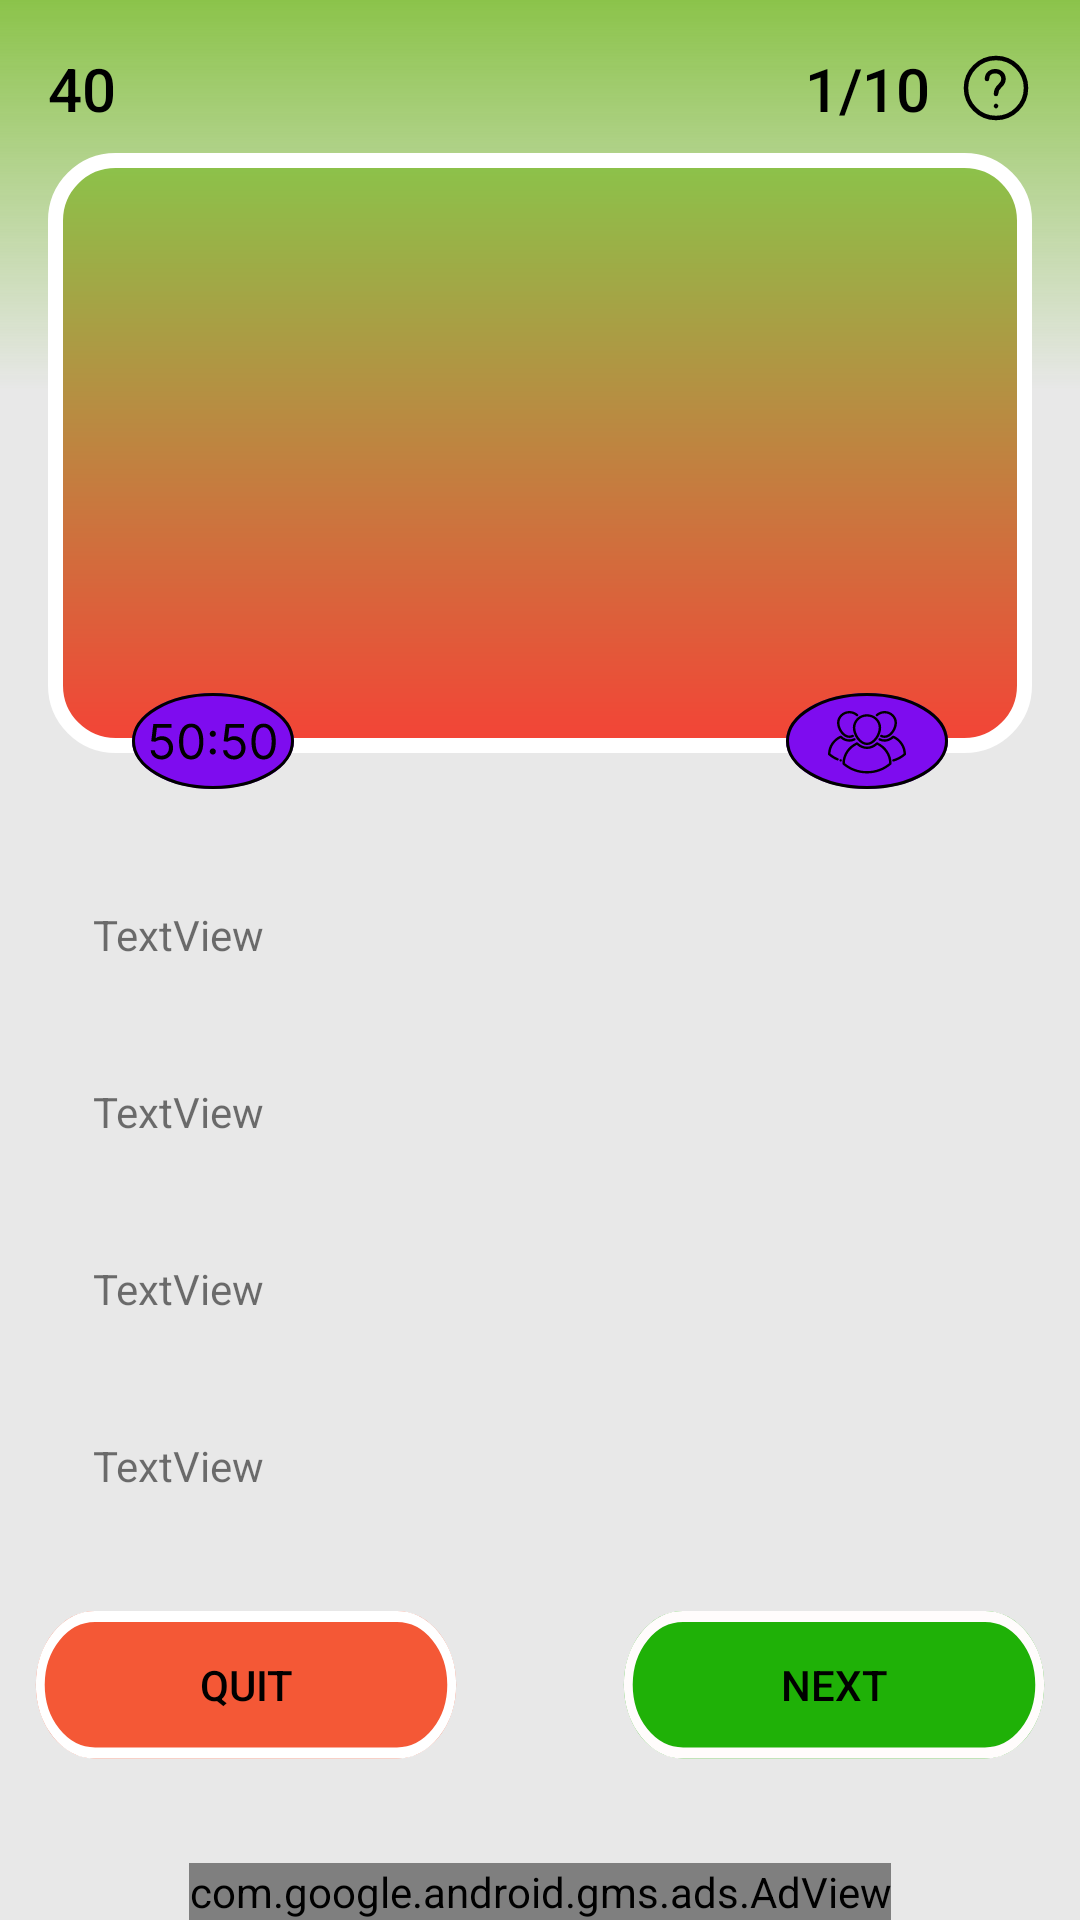

Named icons in this screenshot (1080 x 1920) and their centers, (x=x, y=y):
audience port: (x=867, y=753)
